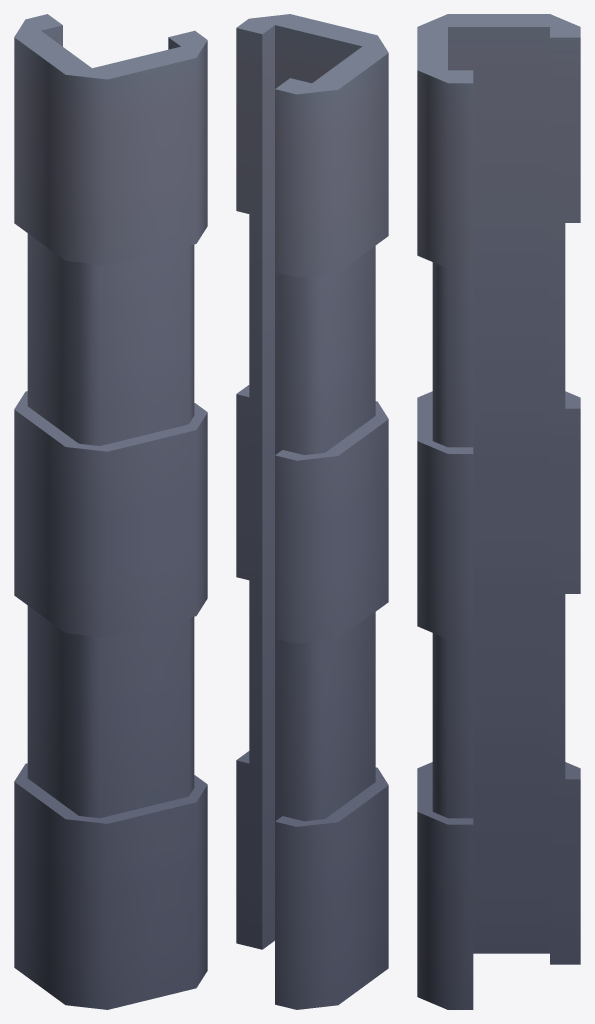
The model's file is wall-corner-detail.glb.
3 renders of one model, left to right at view 1: azimuth 30°, elevation 25°; view 2: azimuth 150°, elevation 25°; view 3: azimuth 270°, elevation 25°, orthographic.
Visible parts, largest first — view 1: wall-corner-detail; view 2: wall-corner-detail; view 3: wall-corner-detail.
Part boxes in pixels (x1=…): wall-corner-detail: x1=14, y1=14, x2=207, y2=1009; wall-corner-detail: x1=236, y1=14, x2=388, y2=1009; wall-corner-detail: x1=417, y1=14, x2=580, y2=1009.
Size of the model in its own units: 0.16 by 1 by 0.16.
Materials: 1 (1 with a texture image).
